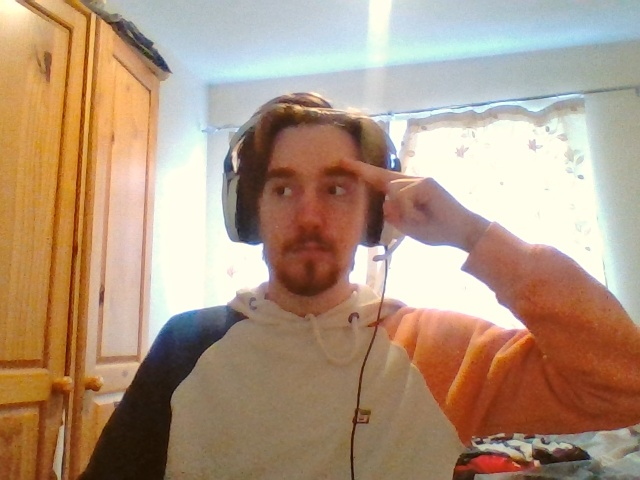name: (339, 158, 449, 243)
